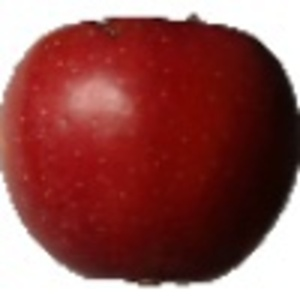maçã braeburn: (1, 13, 300, 285)
